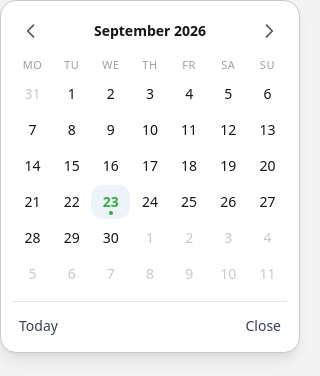
AppDatePanel › drills up to months and years and back down
Click the button named "Choose year" at [150, 31], box [53, 13, 247, 49]
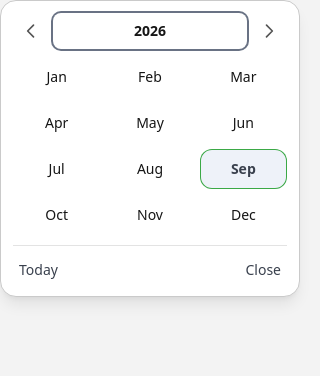
Check: the button with aria-label "March" is shown, box [200, 57, 287, 97]
Check: the button named "Choose year" reads "2026"
Click the button named "Choose year" at [150, 31], box [53, 13, 247, 49]
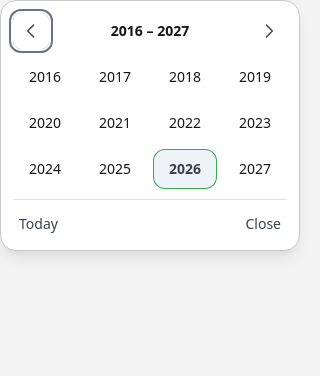
Click the button named "Next years" at [269, 31], box [251, 13, 287, 49]
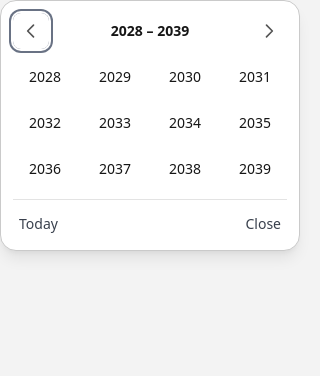
Click the button "2028" at [45, 77], box [13, 57, 77, 97]
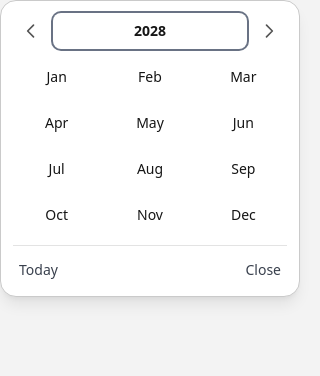
Check: the button named "Choose year" reads "2028", box [53, 13, 247, 49]
Click the button with aria-label "March" at [243, 77], box [200, 57, 287, 97]
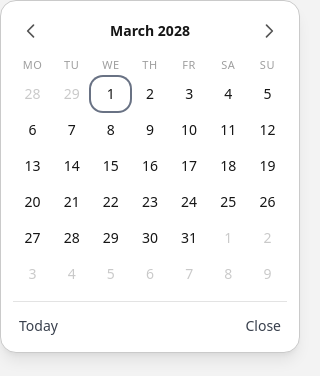
Check: the button named "Choose year" reads "March 2028", box [53, 13, 247, 49]
